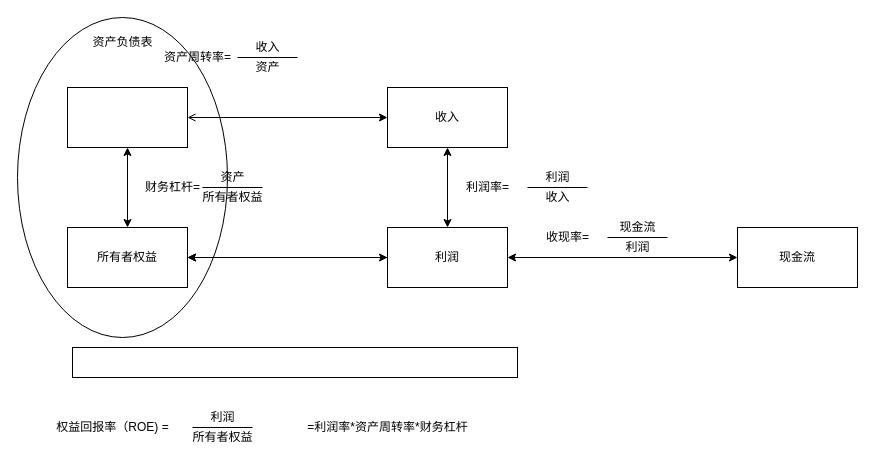
Image size: 875x465. Some labels were removed from this diagram. The centre of each missing label's shape, as x and y in pixels:
"杜邦分析法" belongs at (295,362).
"资产： （一般会有杠杆：现金去撬动银行借款" belongs at (127,117).
